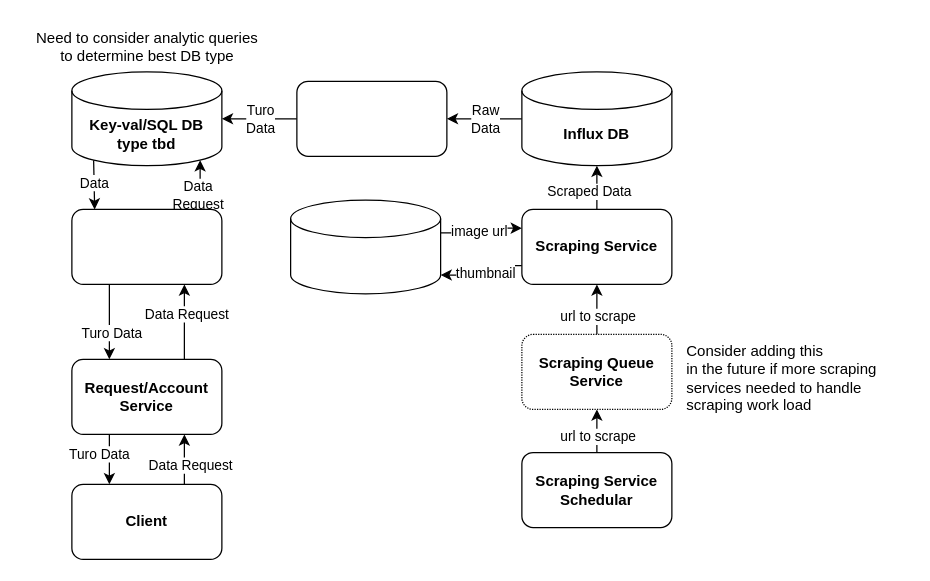
This 930x581 diagram has some shape labels left out. Each missing label, with the centre of its shape:
"Data Parsing Service" belongs at (371,118).
"DB Service" belongs at (146,246).
"Images (S3 DB)" belongs at (365,246).
